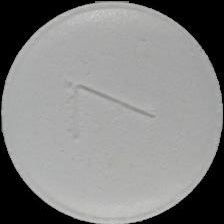60760-306: (0, 0, 224, 224)
